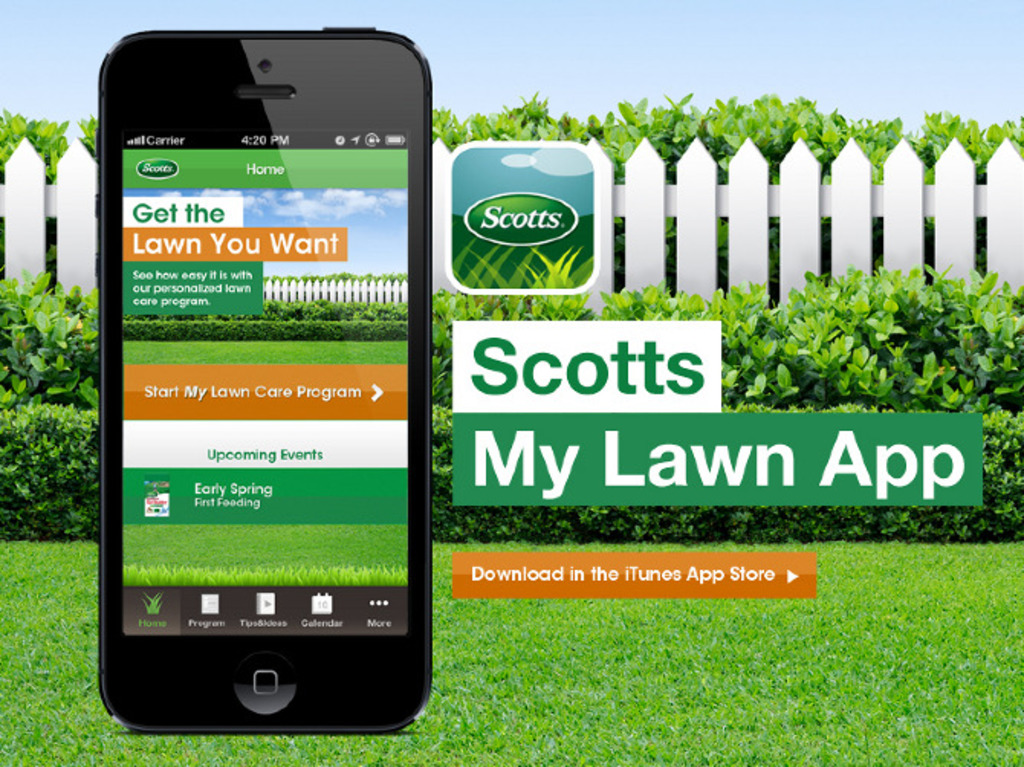Mobile-phone: (98, 28, 434, 732)
